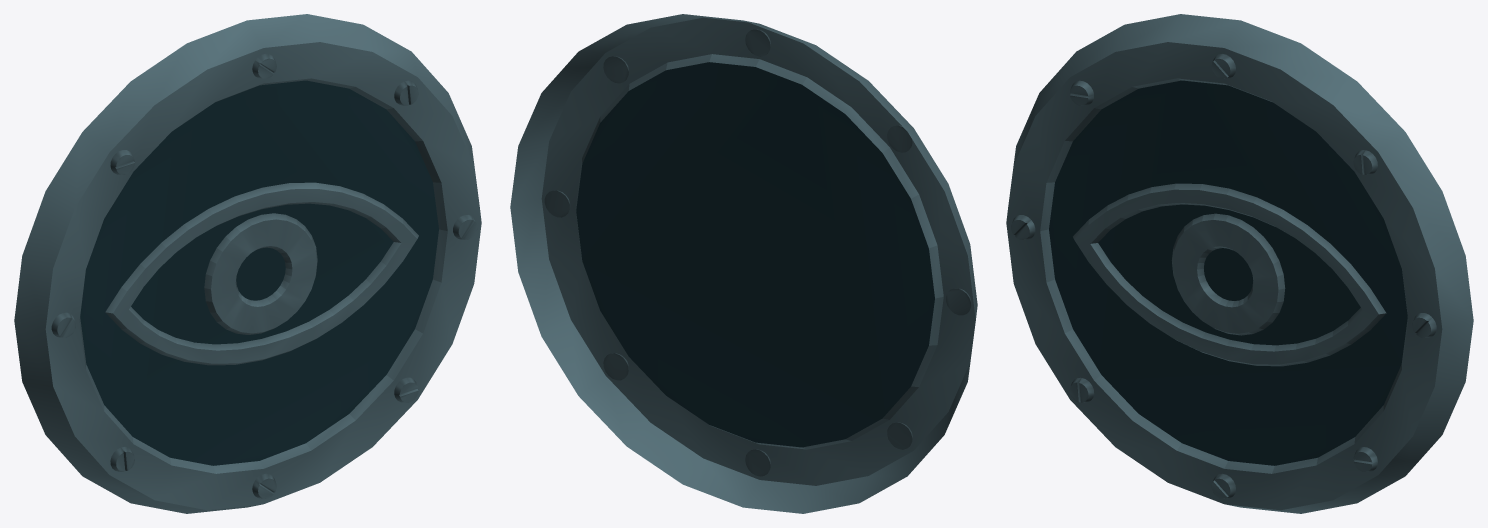
The model's file is obj_shield_A.FBX.
The picture shows the model from 3 angles, left to right: view 1: azimuth 30°, elevation 25°; view 2: azimuth 150°, elevation 25°; view 3: azimuth 330°, elevation 25°; orthographic projection.
Parts seen in each view (by area): view 1: obj_shield_A; view 2: obj_shield_A; view 3: obj_shield_A.
Boxes of the visible parts, x1,y1,x2,y2 form: obj_shield_A: (14, 14, 481, 513); obj_shield_A: (510, 14, 977, 513); obj_shield_A: (1006, 14, 1473, 513).
Size of the model in its own units: 1.9 by 1.9 by 0.1427.
